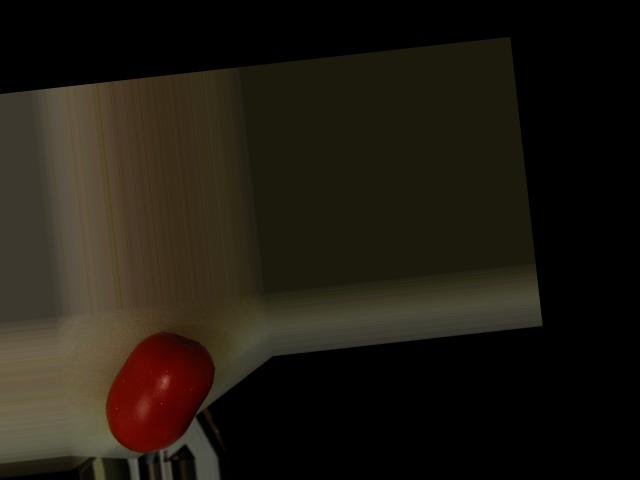tomato: (97, 327, 222, 457)
